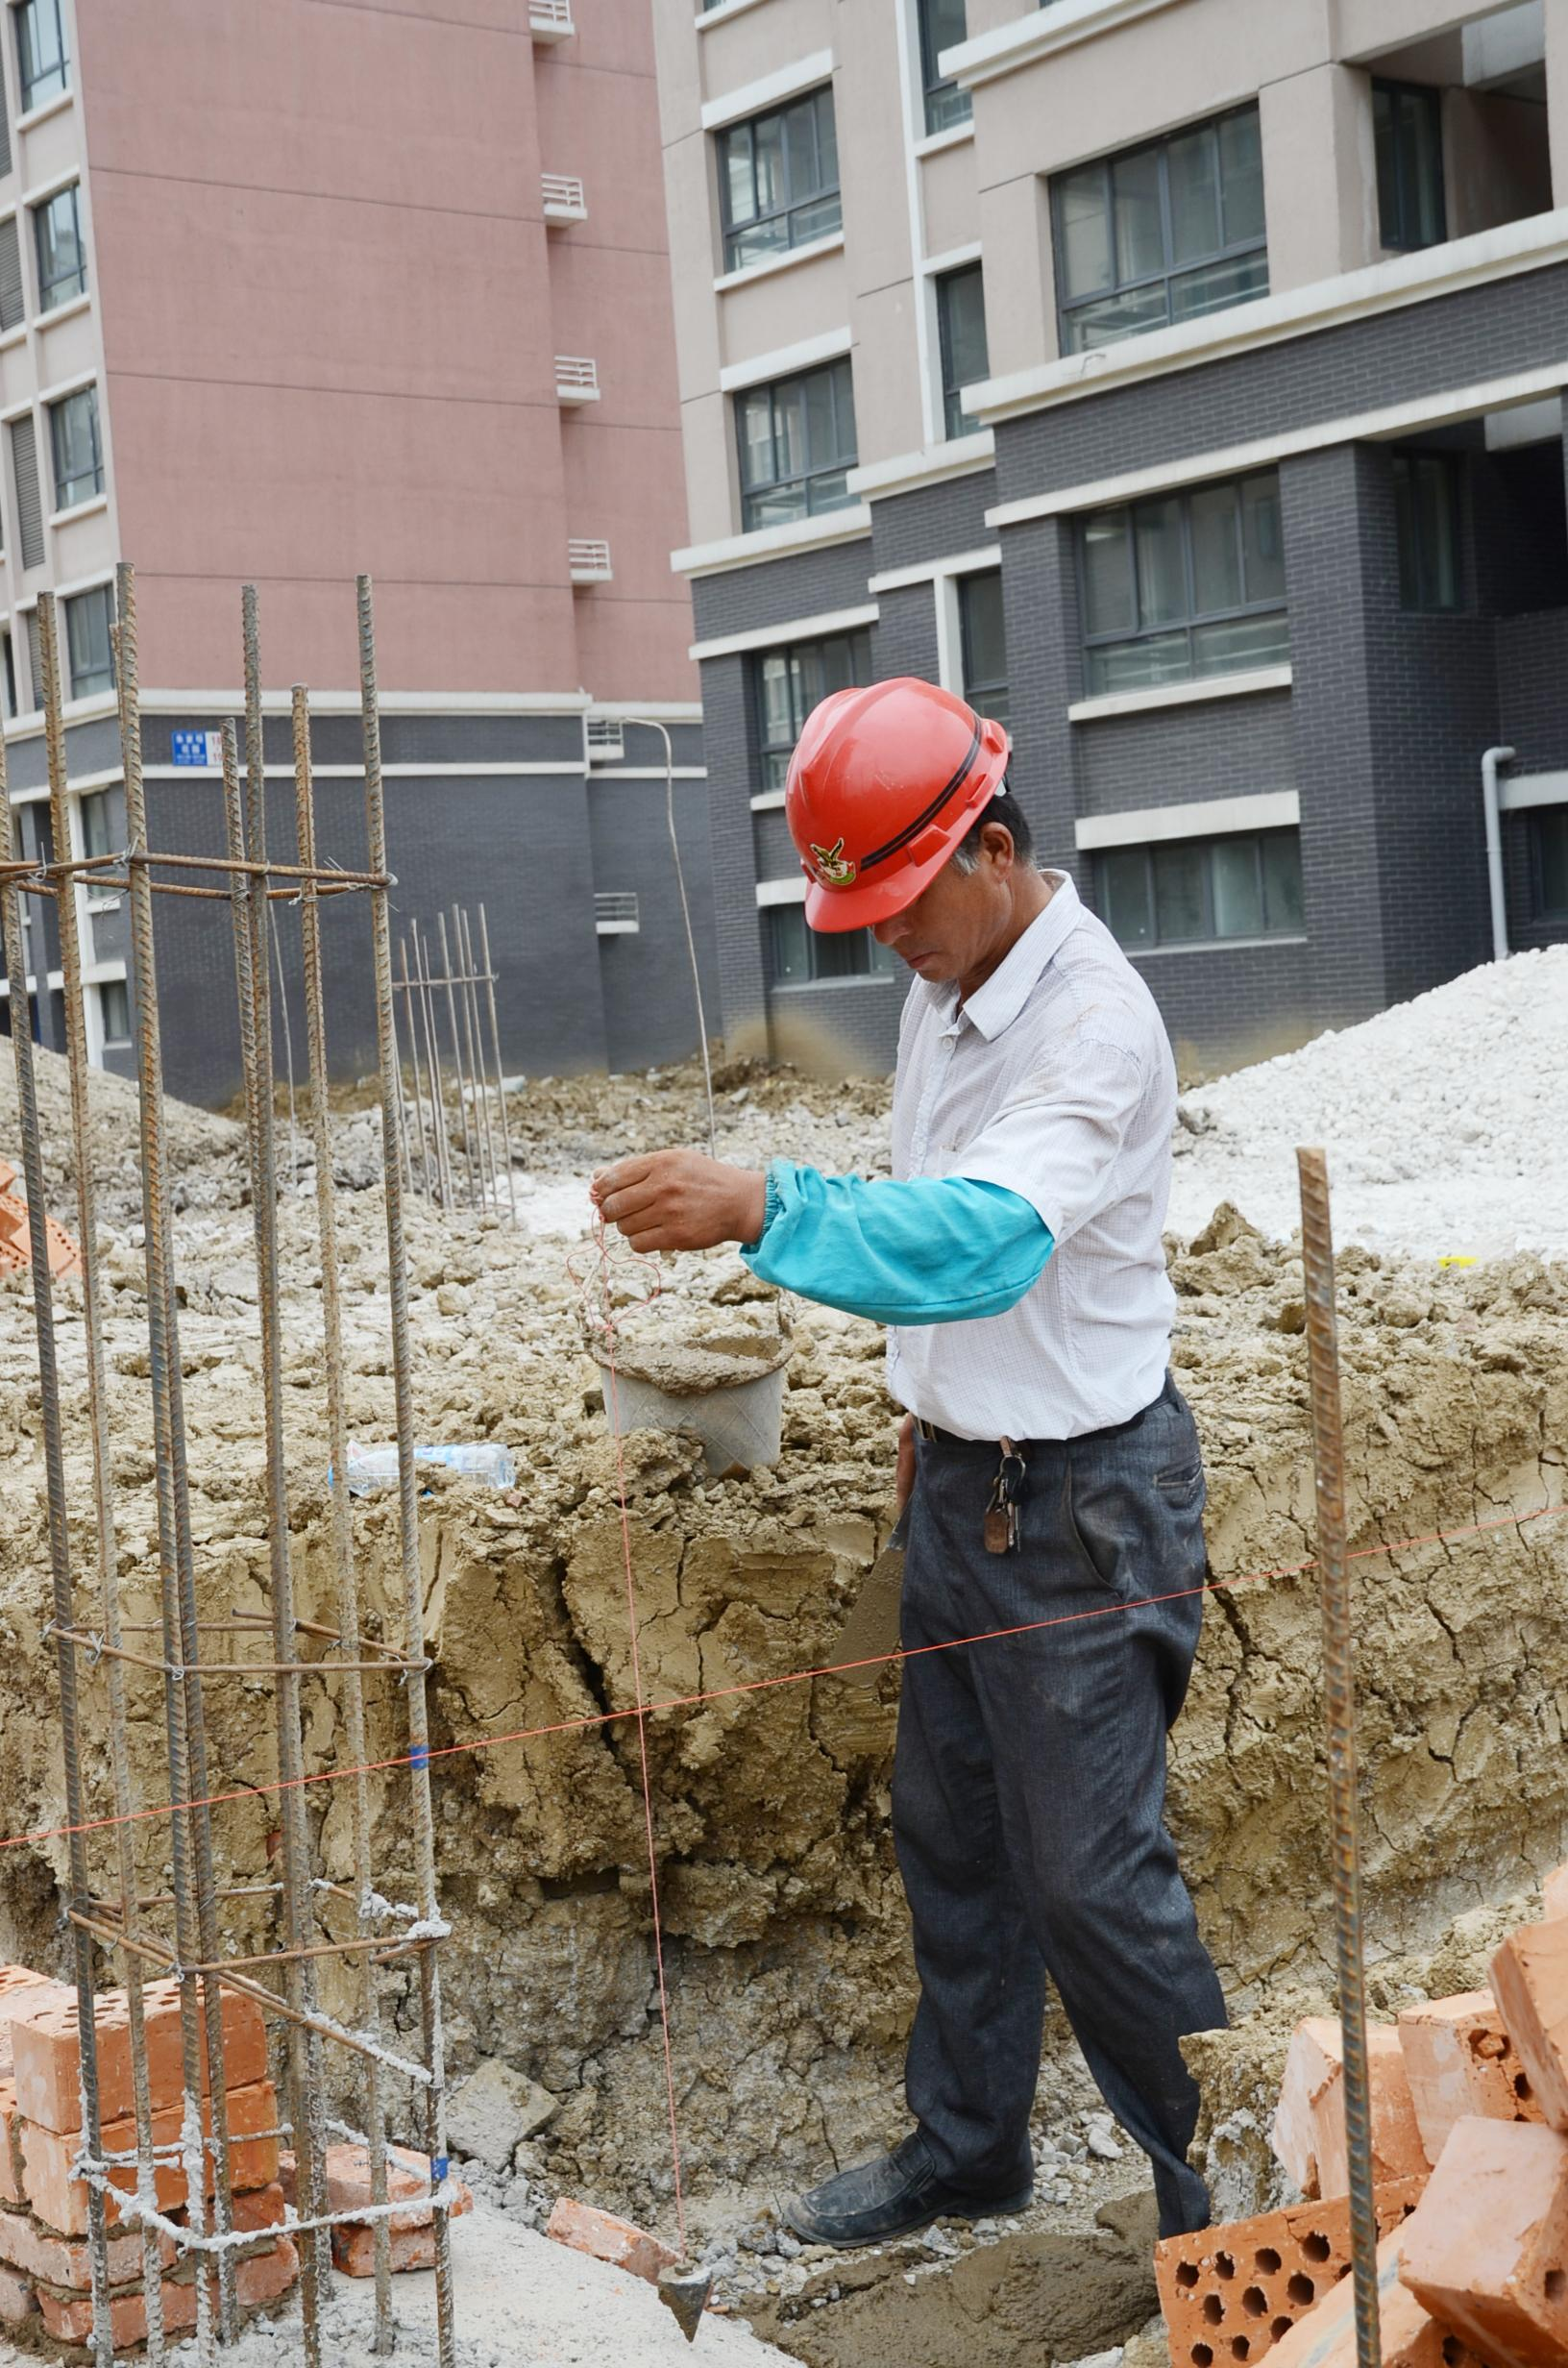helmet: (766, 648, 1031, 966)
